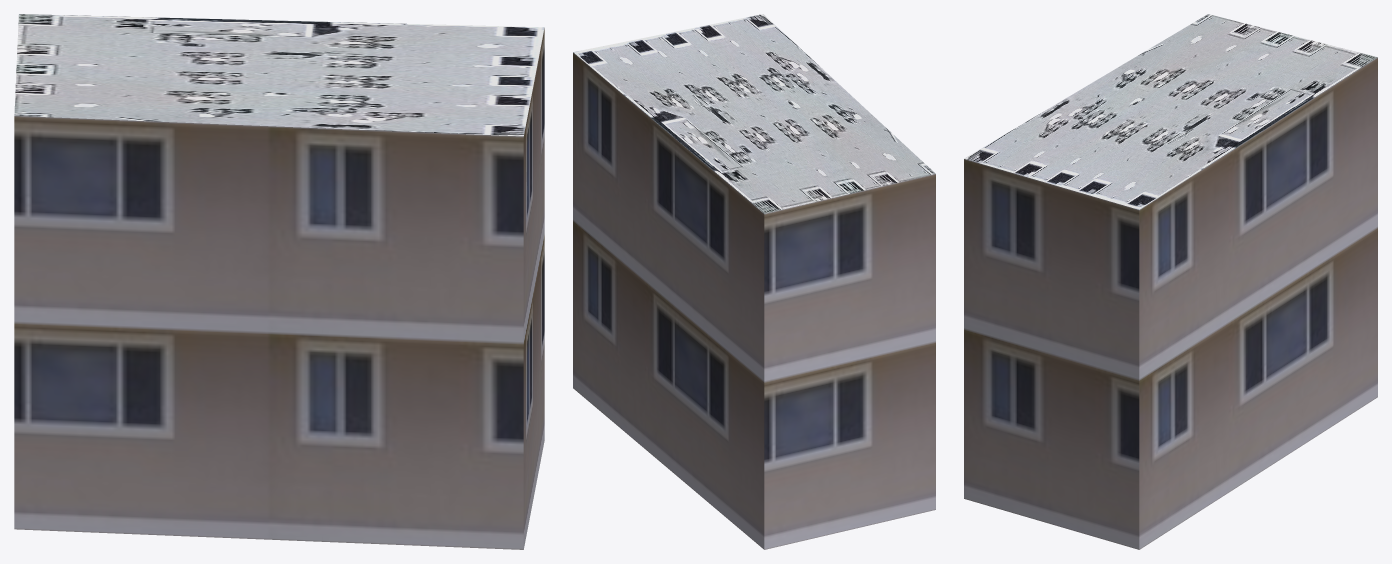
File: ResTex__4496.fbx
The picture shows the model from 3 angles, left to right: view 1: azimuth 30°, elevation 25°; view 2: azimuth 150°, elevation 25°; view 3: azimuth 270°, elevation 25°; orthographic projection. The views are drawn at different scales.
Parts seen in each view (by area): view 1: CityEngineMaterial_21_m, CityEngineMaterial_4_m; view 2: CityEngineMaterial_21_m, CityEngineMaterial_4_m; view 3: CityEngineMaterial_21_m, CityEngineMaterial_4_m.
Part boxes in pixels (<box>): CityEngineMaterial_21_m: <box>14,28,544,549</box>; CityEngineMaterial_4_m: <box>14,14,544,136</box>; CityEngineMaterial_21_m: <box>573,52,935,549</box>; CityEngineMaterial_4_m: <box>573,14,935,213</box>; CityEngineMaterial_21_m: <box>964,57,1377,549</box>; CityEngineMaterial_4_m: <box>964,14,1377,209</box>.
Size of the model in its own units: 7.42 by 6 by 6.62.
Materials: 2 (2 with a texture image).
